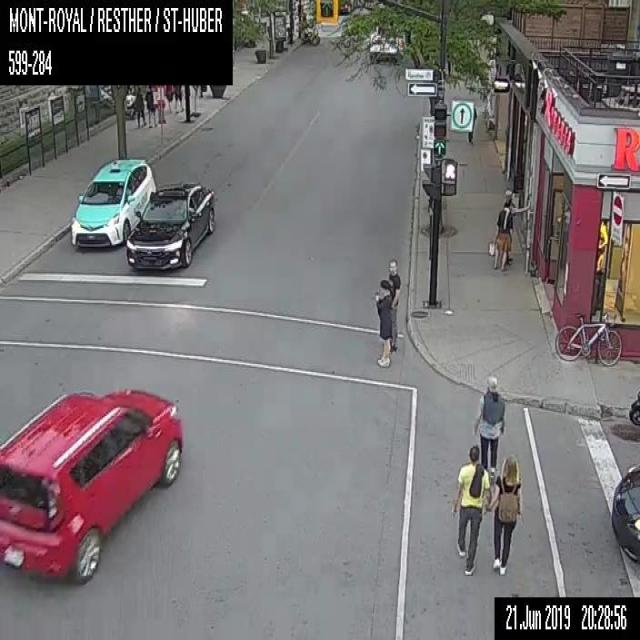bus: (368, 16, 402, 60)
pedestrian: (450, 445, 491, 576), (492, 453, 522, 575), (472, 375, 504, 474), (503, 188, 530, 265), (373, 279, 394, 367), (488, 202, 512, 268), (388, 259, 400, 350), (144, 84, 157, 127), (134, 86, 146, 127), (172, 84, 184, 112), (468, 106, 477, 141), (163, 84, 172, 112)
vehicle: (0, 388, 182, 585), (126, 182, 214, 268), (71, 158, 155, 246), (610, 462, 639, 562)
